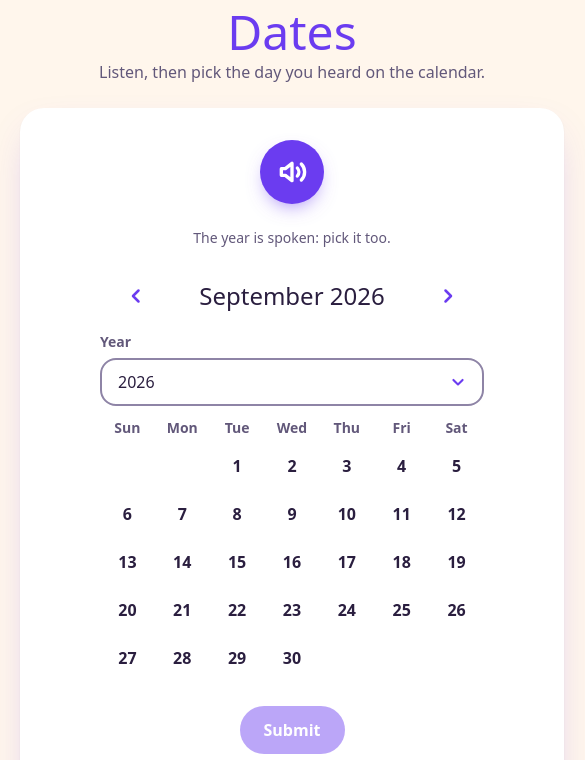
Test: Submit is disabled until a day is picked
The width and height of the screenshot is (585, 760).
Expected: the button "Submit" is disabled, [240,706,344,754]
Click the button named "21 September 2026".
click(182, 610)  # box [160,588,204,632]
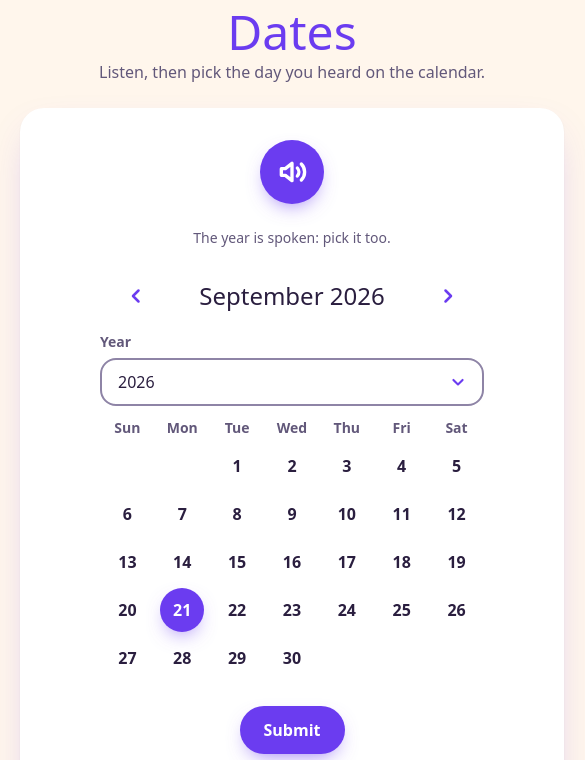
Expected: the button "Submit" is enabled, [240,706,344,754]
